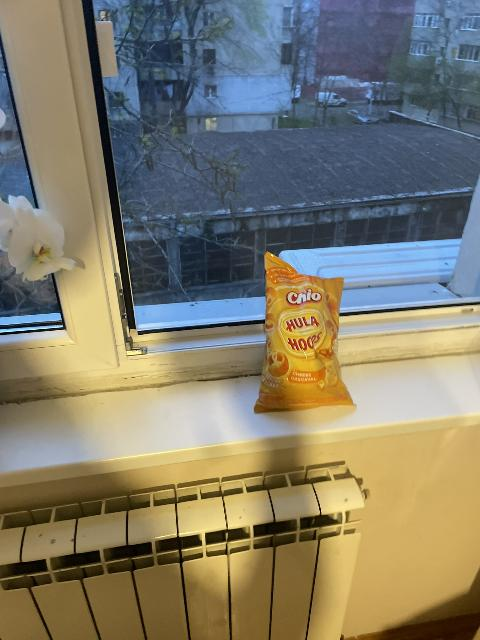Chio Hula Hoops Cheese 70g: (253, 254, 352, 413)
